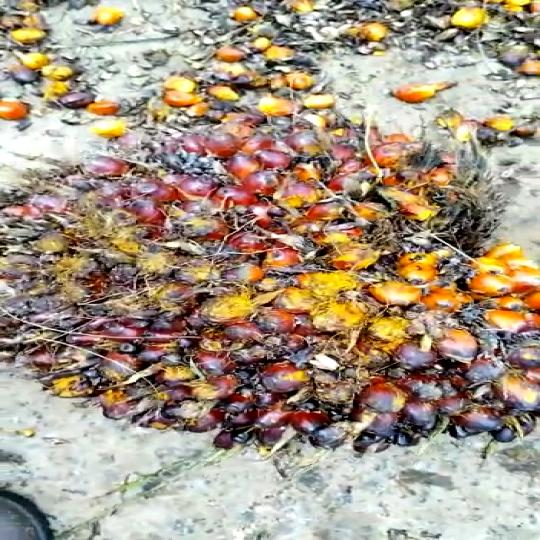masak: (1, 116, 540, 468)
